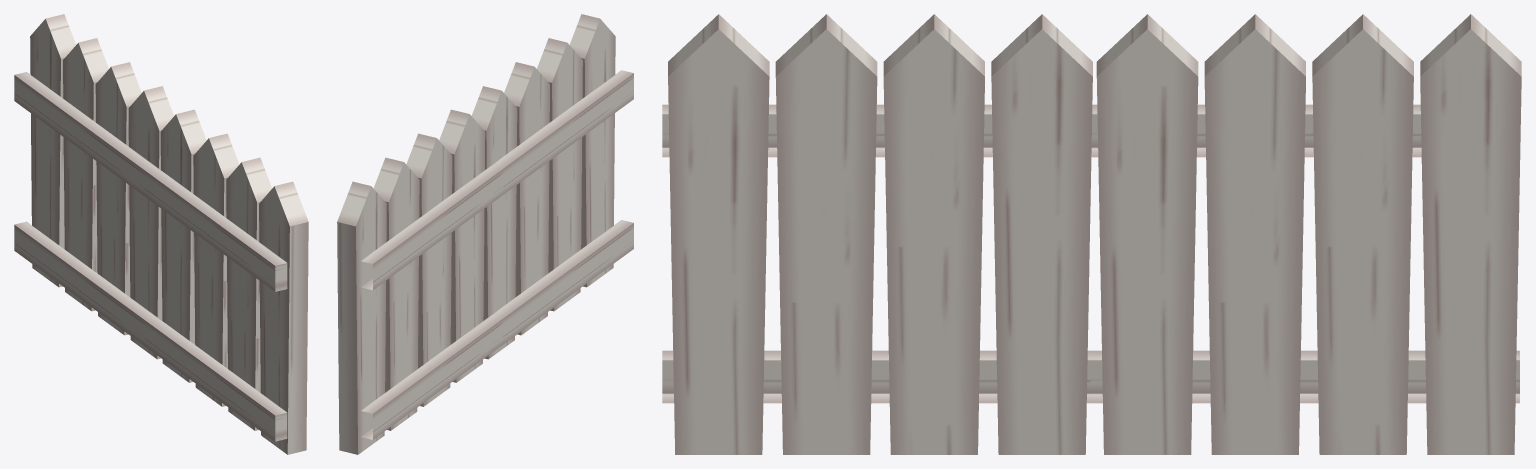
Rendered from bg_fence.FBX.
The picture shows the model from 3 angles, left to right: view 1: azimuth 30°, elevation 25°; view 2: azimuth 150°, elevation 25°; view 3: azimuth 270°, elevation 25°; orthographic projection. The views are drawn at different scales.
Parts seen in each view (by area): view 1: bg_fence001; view 2: bg_fence001; view 3: bg_fence001.
Part boxes in pixels (box(x1,y1,x2,y2)): bg_fence001: box(14, 14, 308, 454); bg_fence001: box(337, 14, 633, 454); bg_fence001: box(662, 14, 1521, 454).
Size of the model in its own units: 3.17 by 22.3 by 40.79.
